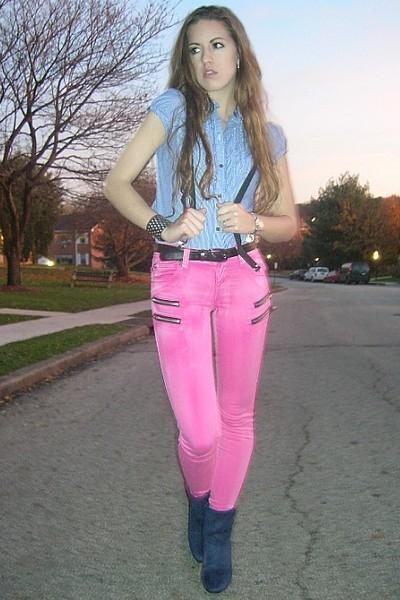pants: (151, 248, 271, 510)
shirt: (143, 84, 287, 251)
shoe: (186, 492, 235, 563)
